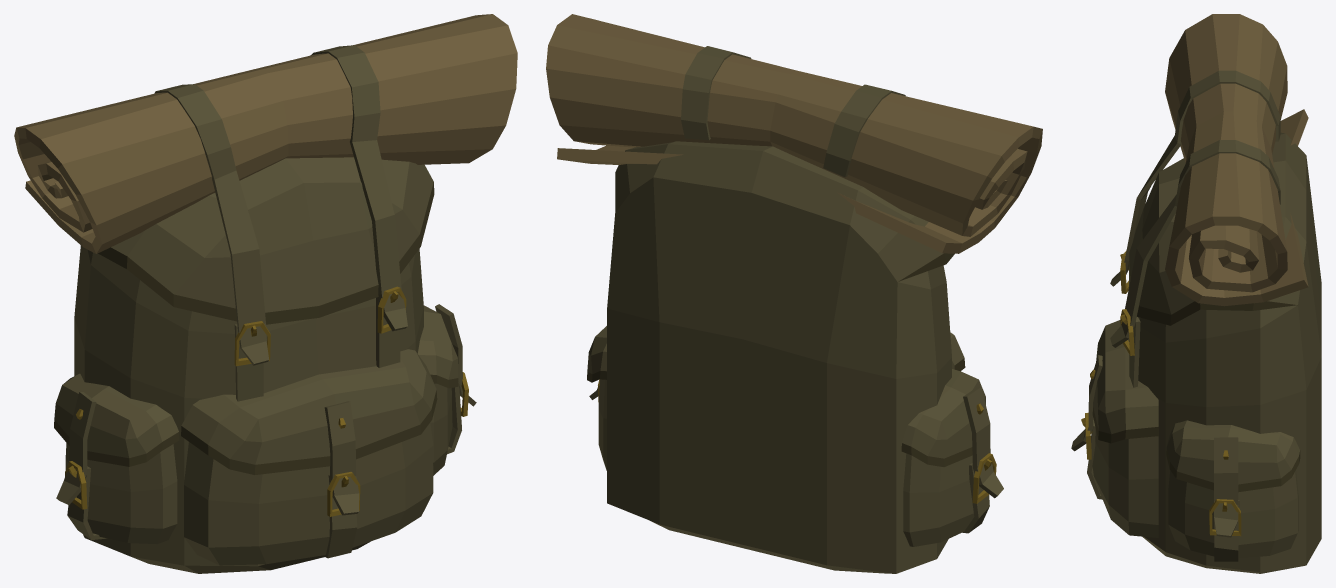
The model's file is backpack.glb.
3 views of the same model, side by side, from view 1: azimuth 30°, elevation 25°; view 2: azimuth 150°, elevation 25°; view 3: azimuth 270°, elevation 25° (orthographic). The views are drawn at different scales.
Parts seen in each view (by area): view 1: backpack; view 2: backpack; view 3: backpack.
Part boxes in pixels (x1,y1,x2,y2): backpack: (14, 14, 517, 573); backpack: (546, 14, 1042, 573); backpack: (1071, 14, 1321, 573).
Bounding box in the file's own units: 0.5894 × 0.55 × 0.3078.
